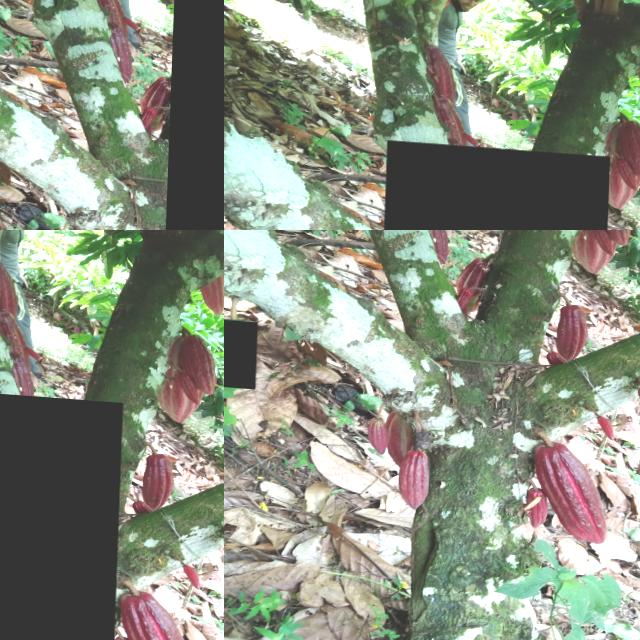Sana: (0, 384, 124, 640), (379, 137, 611, 230), (168, 0, 224, 230), (533, 436, 614, 538), (224, 317, 259, 387), (555, 292, 592, 358), (390, 405, 424, 470), (397, 446, 433, 504), (365, 399, 398, 450), (573, 230, 613, 268), (463, 251, 490, 295), (530, 484, 555, 527), (419, 230, 456, 255), (591, 410, 615, 434), (588, 230, 621, 246), (458, 281, 475, 304)
